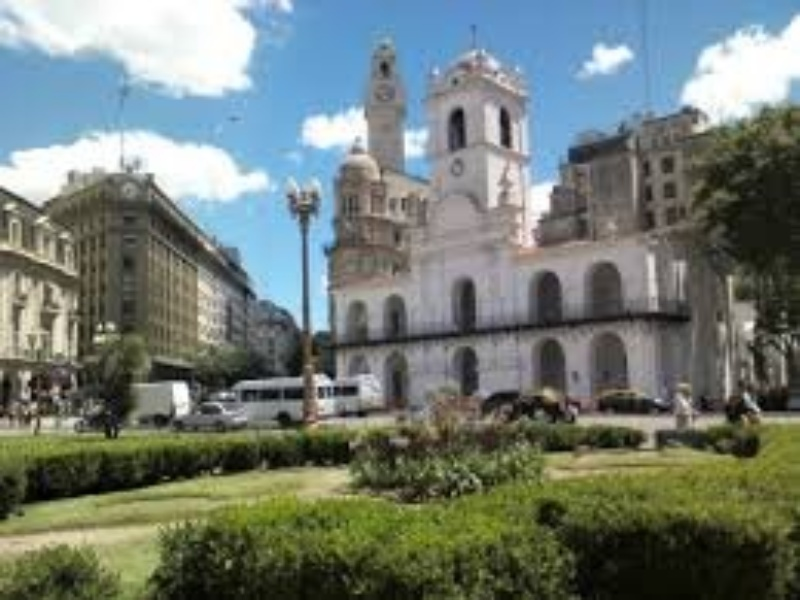cabildo: (325, 16, 696, 424)
